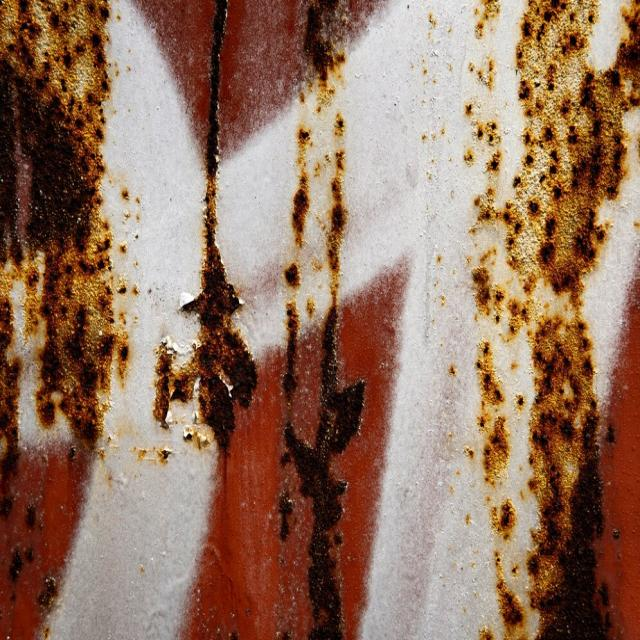Pitting Corrosion: (465, 0, 639, 639), (148, 0, 257, 458), (283, 126, 312, 288), (304, 0, 348, 81), (326, 149, 346, 307), (283, 295, 300, 401)
